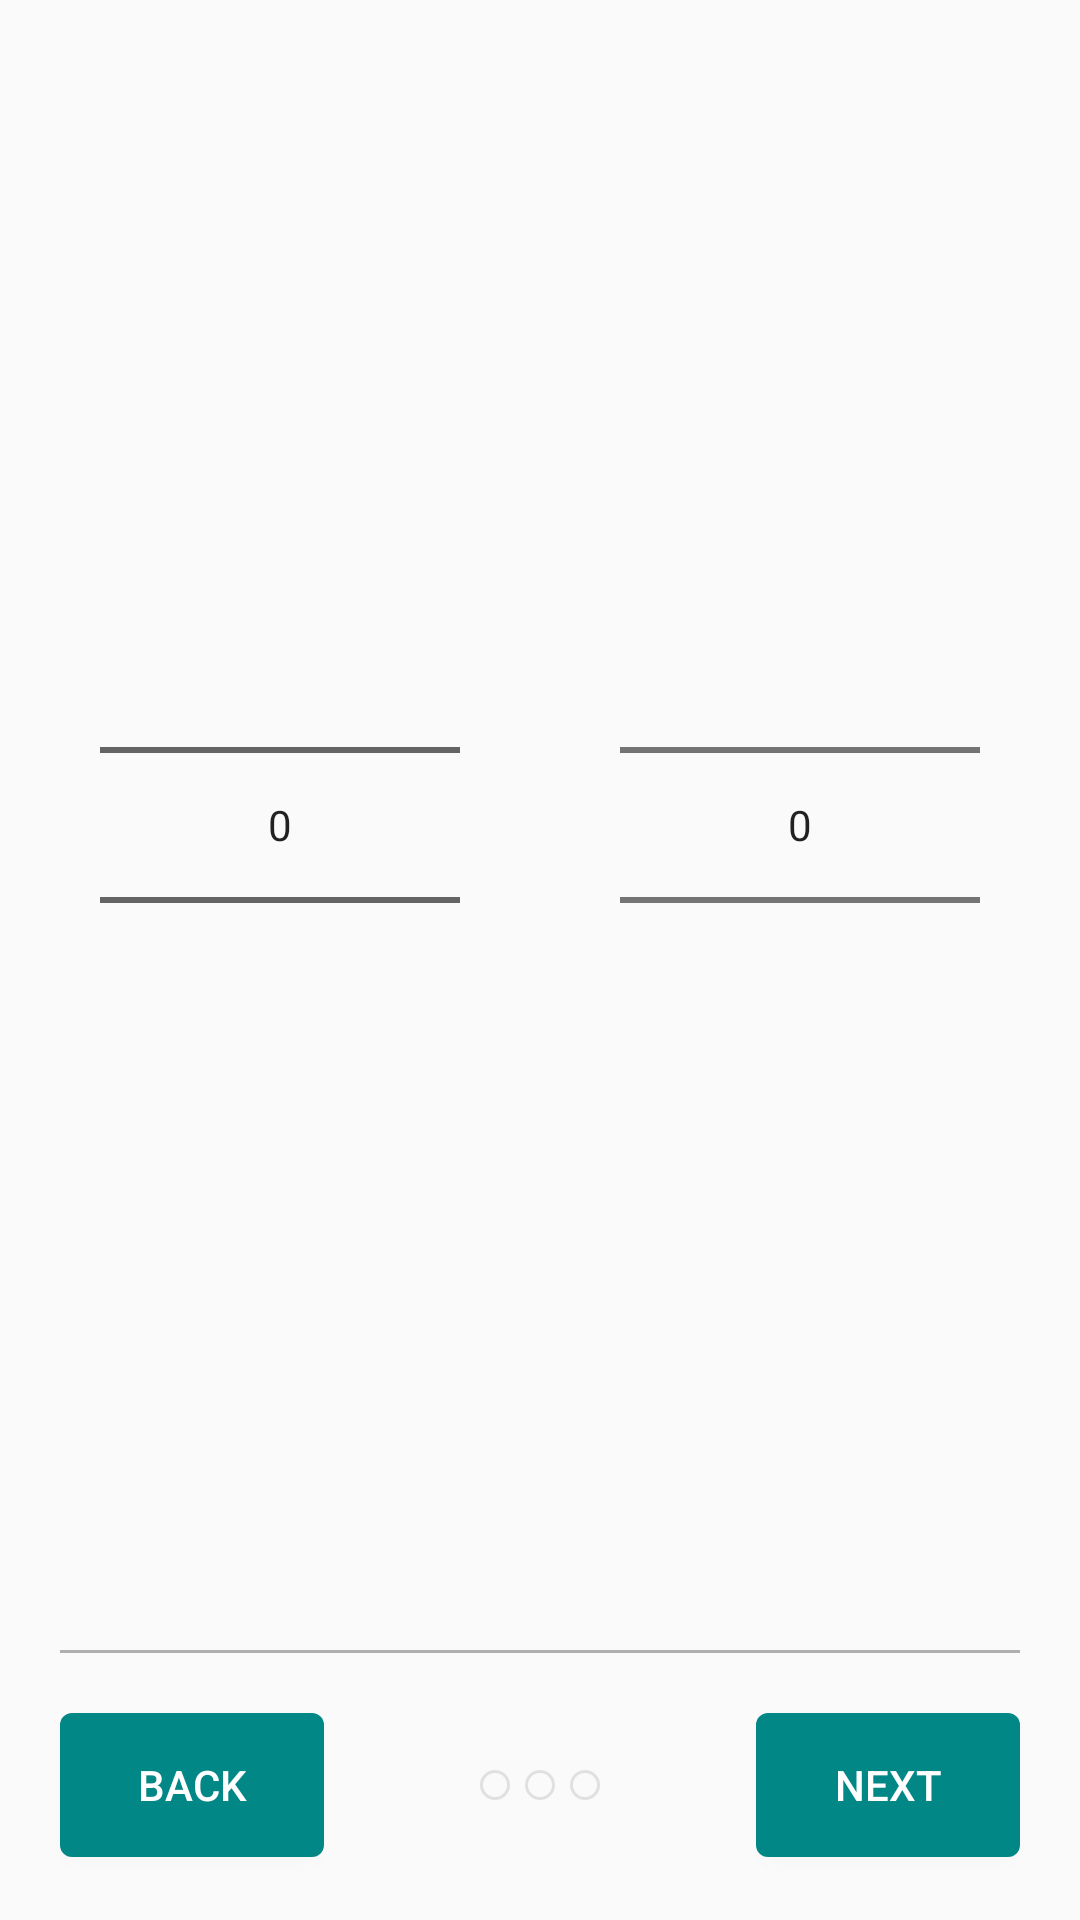

Icon bounding boxes for this 1080×1920 phone screenshot, format (x1, y1, x2, y2):
dot empty: (480, 1770, 510, 1800), (525, 1770, 555, 1800), (570, 1770, 600, 1800)
